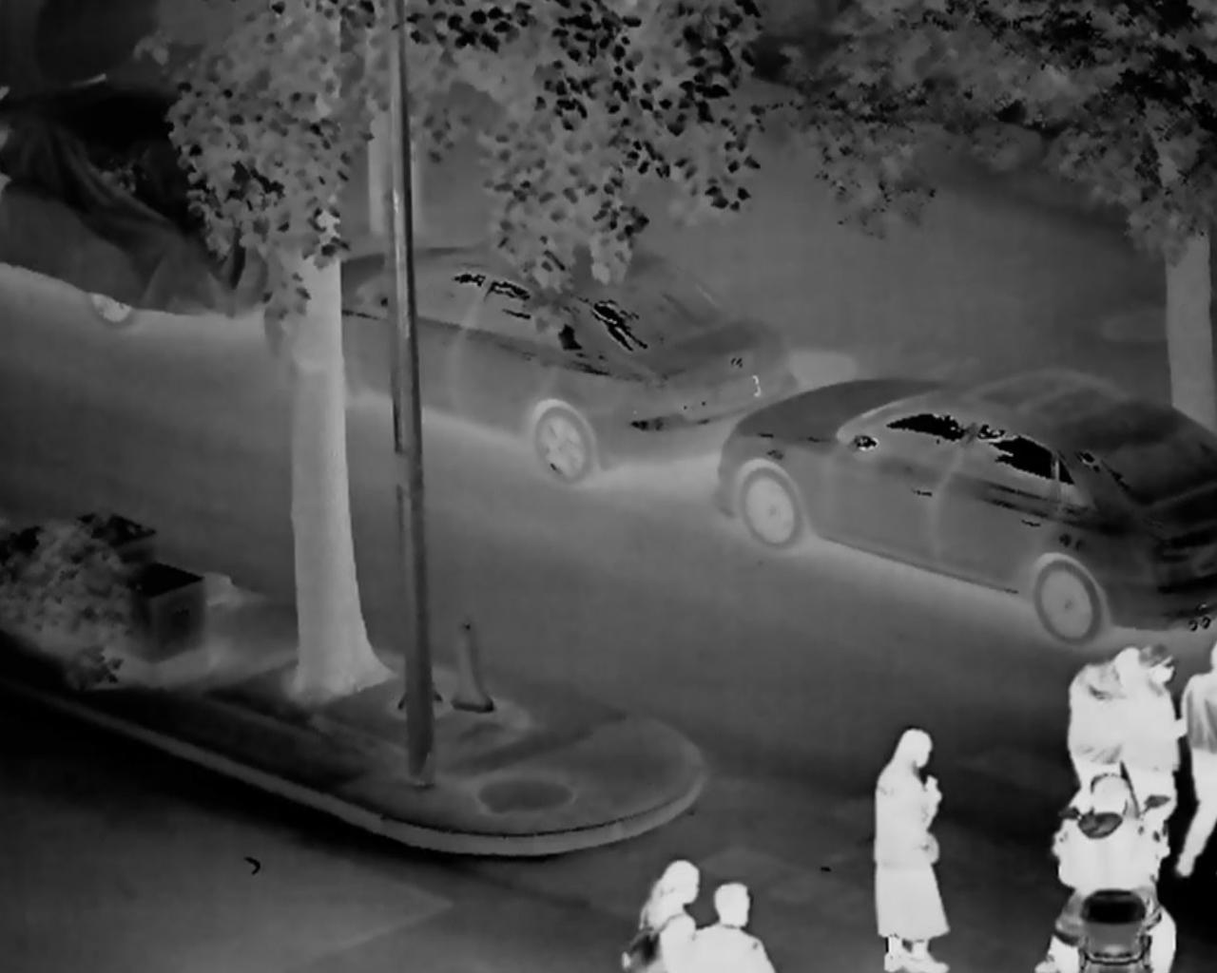person: (850, 711, 963, 973), (1111, 636, 1188, 870), (1069, 761, 1147, 973), (1057, 639, 1127, 848), (612, 836, 709, 973), (1172, 626, 1217, 843), (700, 884, 779, 973)
